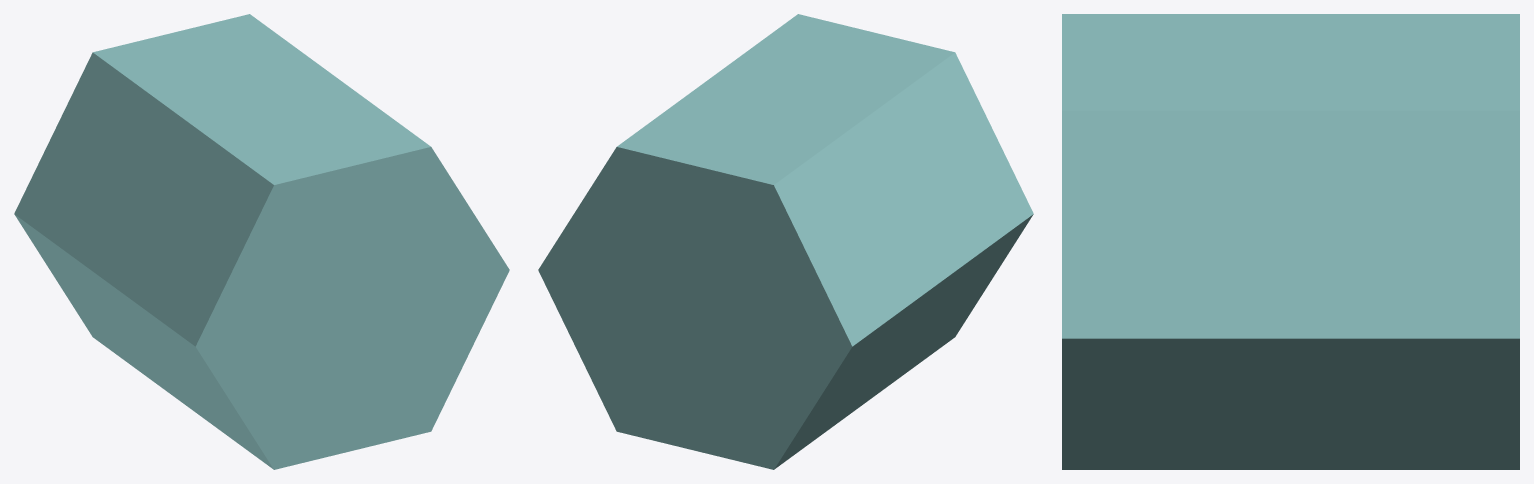
Rendered from Hexagonal_Prism.glb.
The picture shows the model from 3 angles, left to right: view 1: azimuth 30°, elevation 25°; view 2: azimuth 150°, elevation 25°; view 3: azimuth 270°, elevation 25°; orthographic projection. The views are drawn at different scales.
Visible parts, largest first — view 1: world; view 2: world; view 3: world.
Part boxes in pixels (x1,y1,x2,y2): world: (14, 14, 509, 469); world: (538, 14, 1033, 469); world: (1062, 14, 1519, 469).
Size of the model in its own units: 2 by 1.73 by 2.
